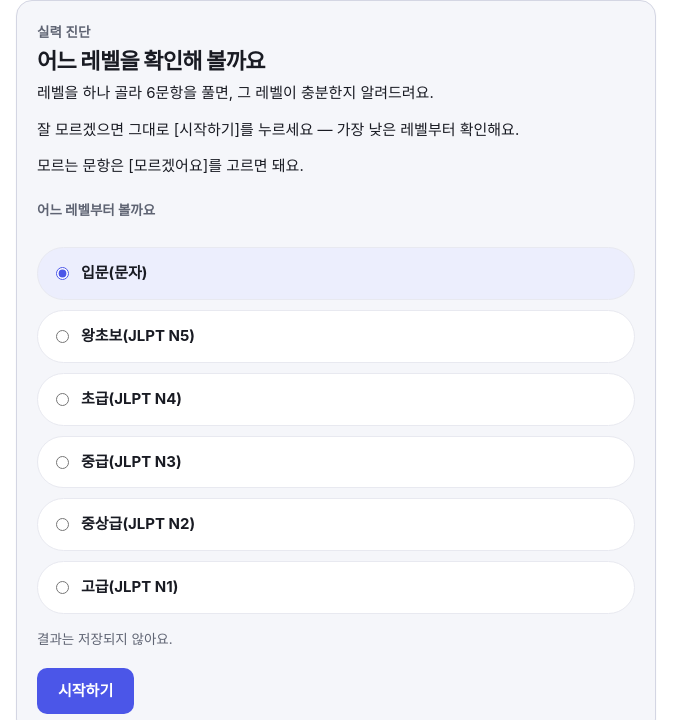
it: 갈래 머리글 (A42·A43·A44) › N2·N1은 어휘 → 어법 두 묶음이고 `문법`·`문장`은 없다 — 정상 경로다
Click the radio button labelled "중상급(JLPT N2)". click: (62, 525)
box: [56, 518, 69, 531]
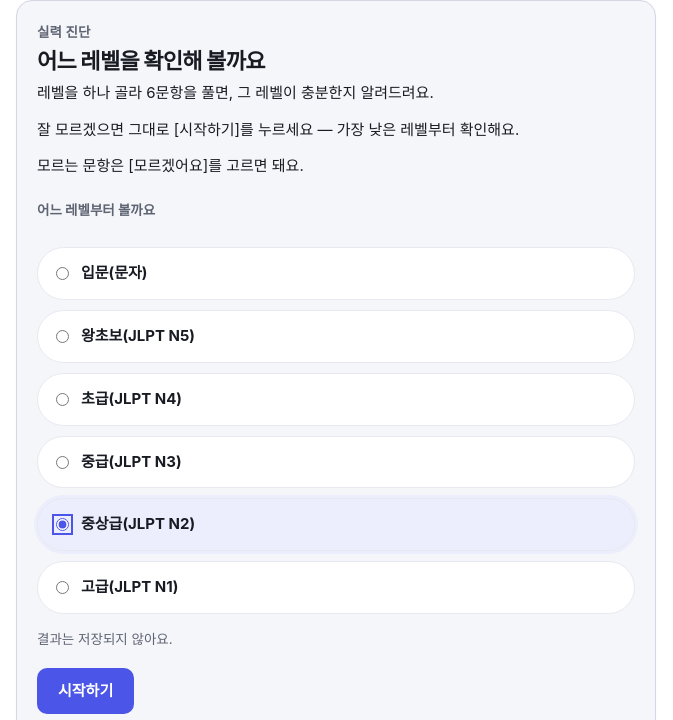
Click the button "시작하기". click: (86, 691)
box: [37, 668, 134, 714]
(page scrolled)
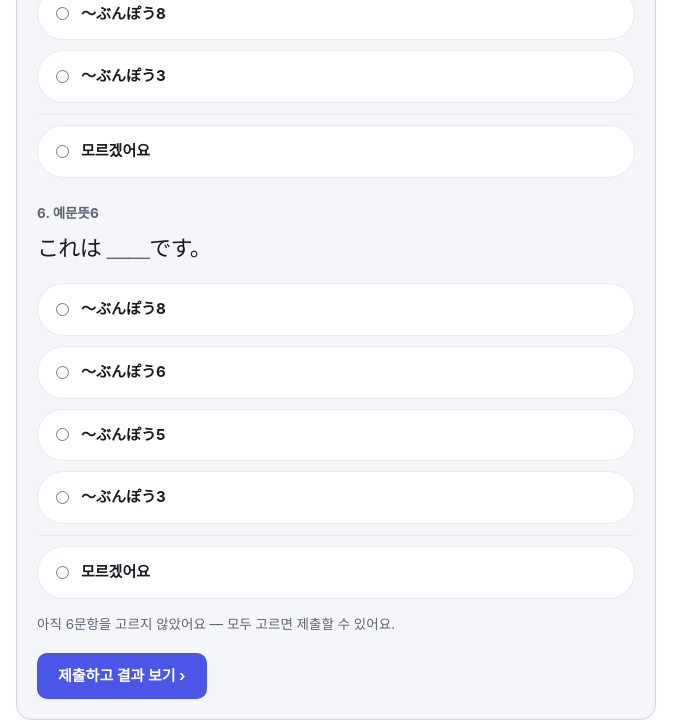
expect the button "제출하고 결과 보기 ›" is shown: met, box [37, 653, 206, 699]
